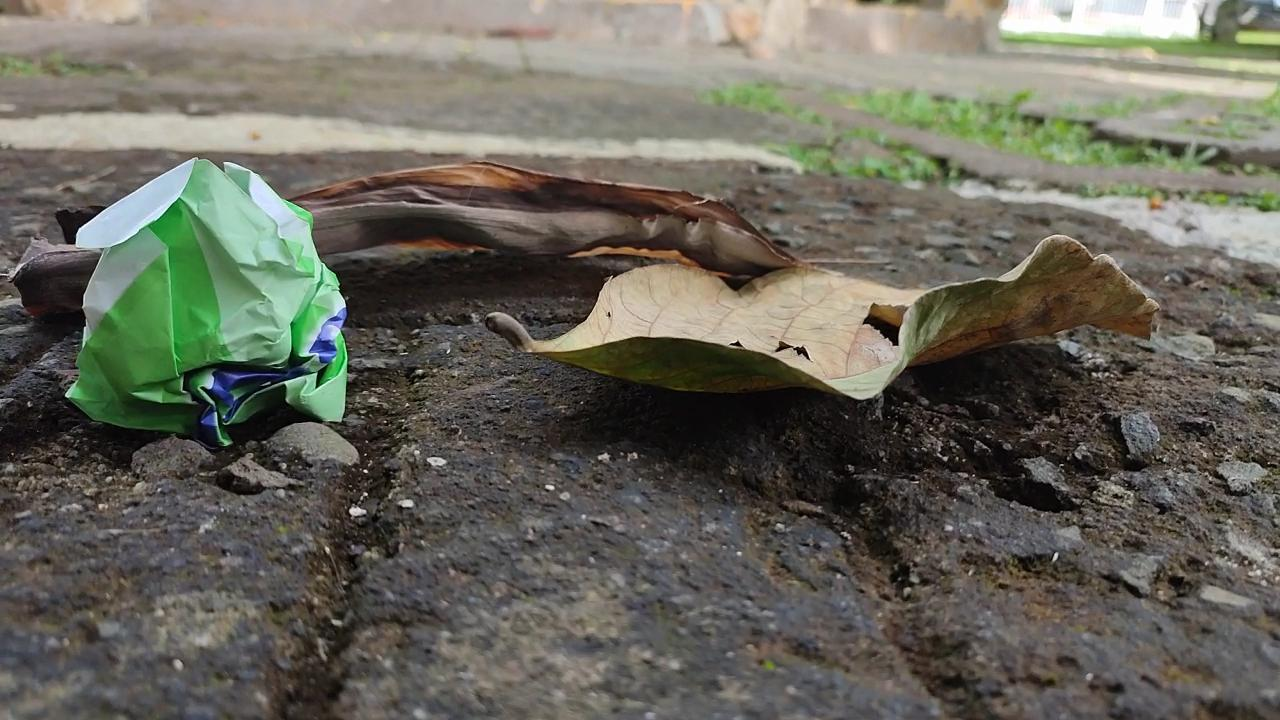Paper: (58, 124, 363, 456)
